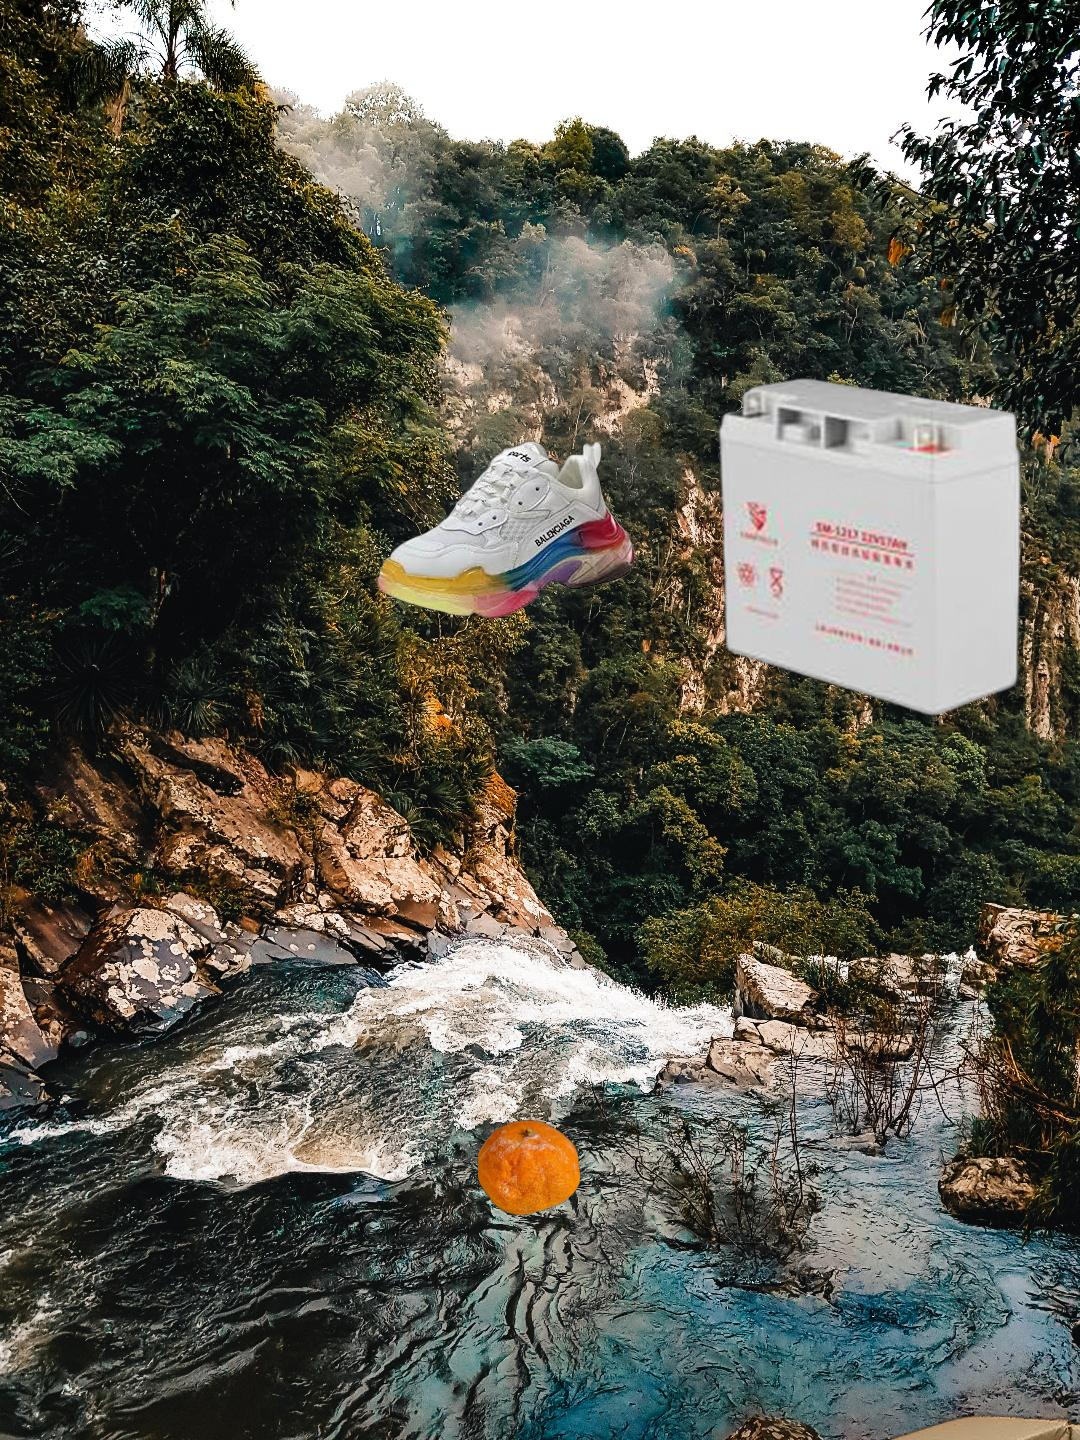battery: (712, 373, 1028, 720)
biological: (475, 1118, 583, 1218)
metal-cans: (862, 473, 943, 626)
shoes: (376, 439, 638, 625)
trashbox-cardboard: (420, 1328, 1080, 1440)
